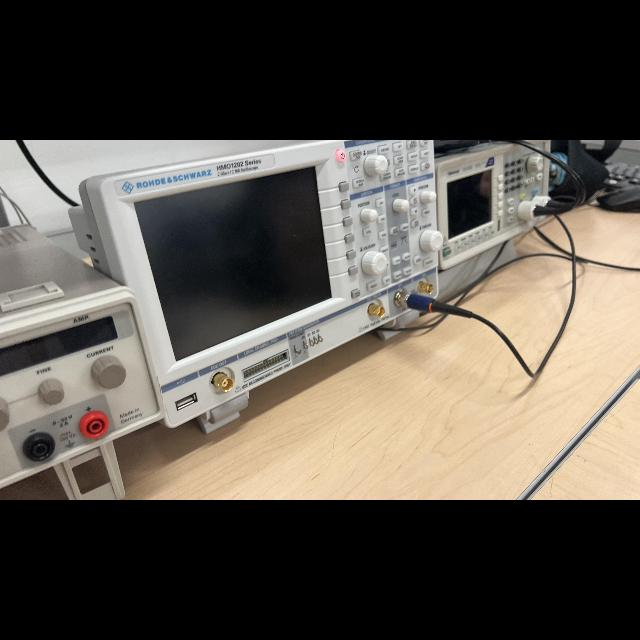Digital-Oscilloscope: (69, 140, 440, 435)
